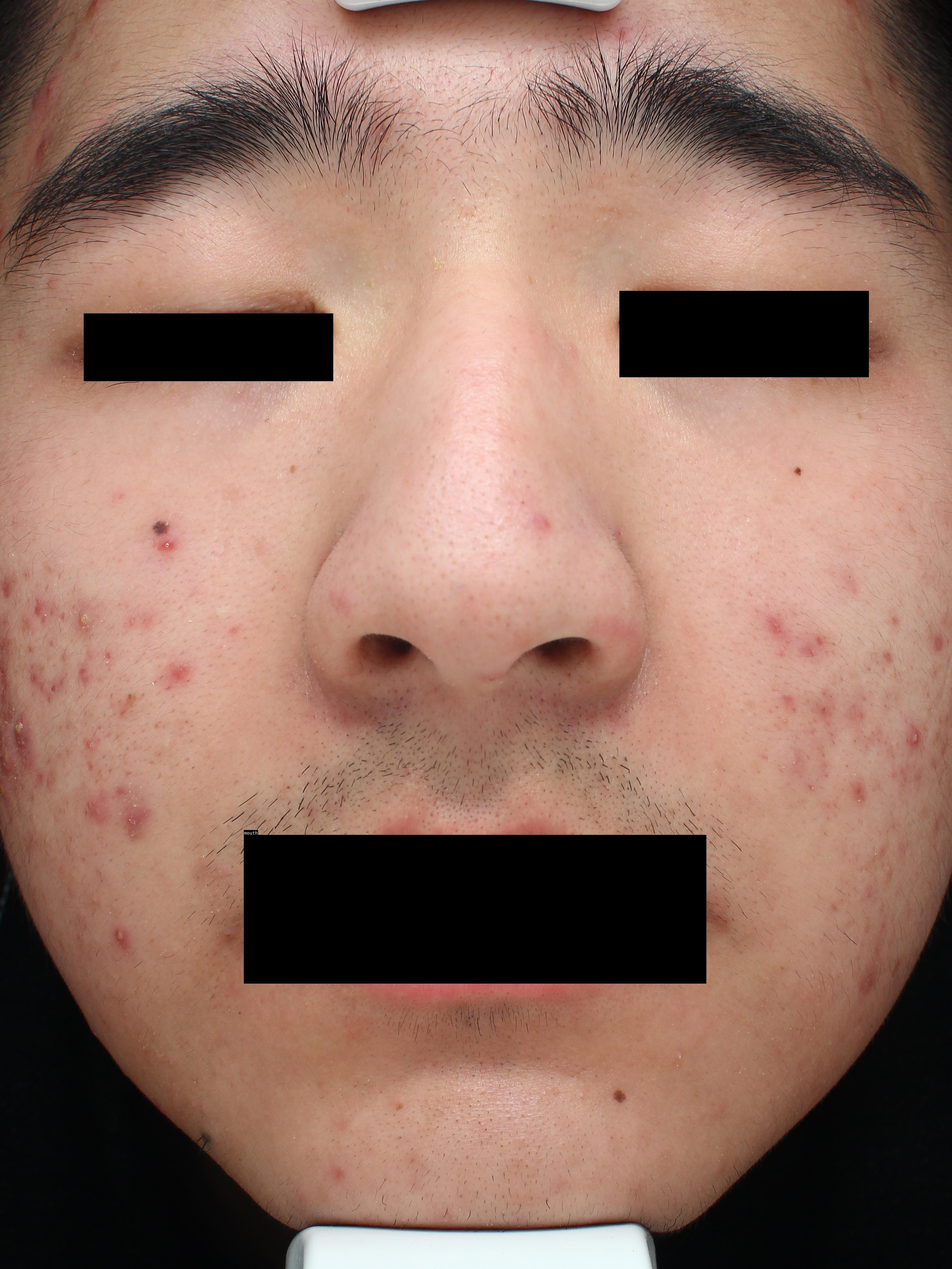atrophic_scar: (84, 760, 94, 772), (57, 611, 67, 622), (432, 797, 440, 807), (154, 770, 162, 780), (816, 636, 823, 646), (44, 584, 49, 594), (807, 785, 815, 791), (105, 652, 111, 659), (58, 571, 62, 580)
closed_comedo: (674, 1051, 683, 1061), (542, 1090, 548, 1096)
melasma: (809, 375, 823, 385), (856, 412, 864, 420)
nevus: (200, 1129, 214, 1148), (152, 520, 169, 535), (613, 1088, 627, 1103), (793, 465, 803, 476)
nodule: (29, 58, 66, 124), (11, 713, 37, 773), (0, 725, 23, 782)
open_comedo: (469, 1072, 478, 1079), (848, 574, 853, 581)
other: (931, 661, 950, 707)
papule: (123, 803, 148, 834), (169, 663, 188, 682), (219, 927, 236, 942), (159, 537, 175, 551), (36, 139, 48, 157), (87, 0, 99, 15), (538, 518, 551, 531), (770, 618, 781, 633), (33, 601, 44, 616), (854, 784, 864, 797), (93, 804, 103, 816), (864, 975, 873, 987), (820, 705, 828, 714), (50, 685, 57, 692)
pustule: (77, 606, 96, 630), (113, 926, 127, 944), (907, 729, 920, 747), (86, 737, 99, 752)
